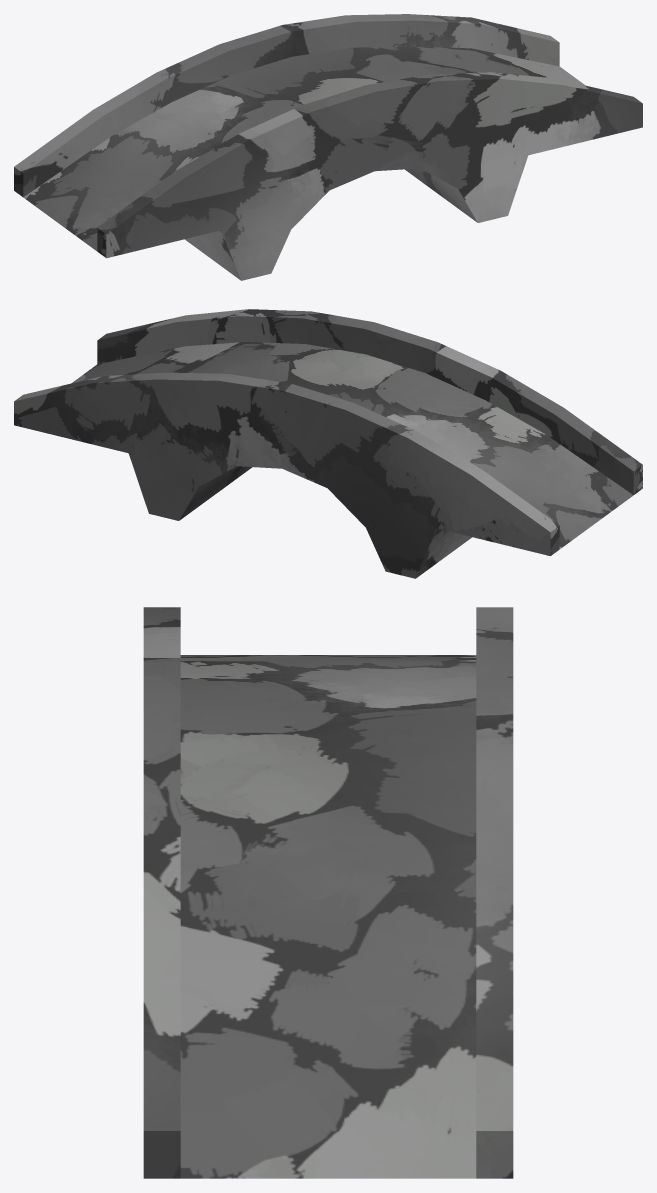
The model's file is Farm_Bridge_02.fbx.
The picture shows the model from 3 angles, top to bottom: view 1: azimuth 30°, elevation 25°; view 2: azimuth 150°, elevation 25°; view 3: azimuth 270°, elevation 25°; orthographic projection. The views are drawn at different scales.
Parts seen in each view (by area): view 1: Null_2; view 2: Null_2; view 3: Null_2.
Part boxes in pixels (bbox=[...]): Null_2: bbox=[14, 14, 642, 280]; Null_2: bbox=[14, 309, 642, 578]; Null_2: bbox=[143, 607, 513, 1178].
Size of the model in its own units: 1341 by 374 by 400.
2 materials, 2 textured.
